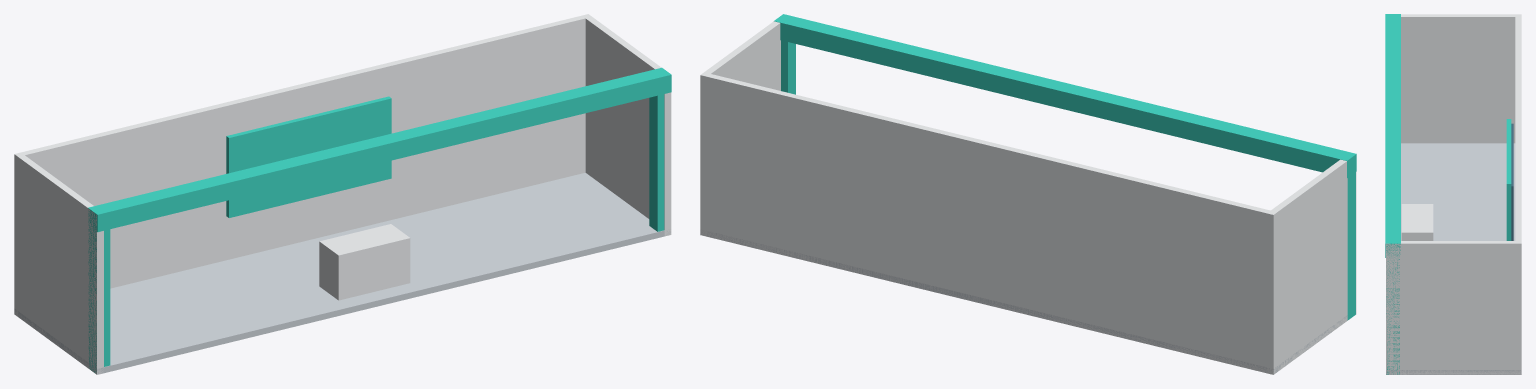
3 renders of one model, left to right at view 1: azimuth 30°, elevation 25°; view 2: azimuth 150°, elevation 25°; view 3: azimuth 270°, elevation 25°, orthographic. The views are drawn at different scales.
Visible parts, largest first — view 1: Exhibition Booth Concept; view 2: Exhibition Booth Concept; view 3: Exhibition Booth Concept.
Part boxes in pixels (x1=…): Exhibition Booth Concept: x1=14, y1=14, x2=671, y2=374; Exhibition Booth Concept: x1=700, y1=14, x2=1356, y2=374; Exhibition Booth Concept: x1=1385, y1=14, x2=1521, y2=374.
Size of the model in its own units: 12 by 3.2 by 3.01.
